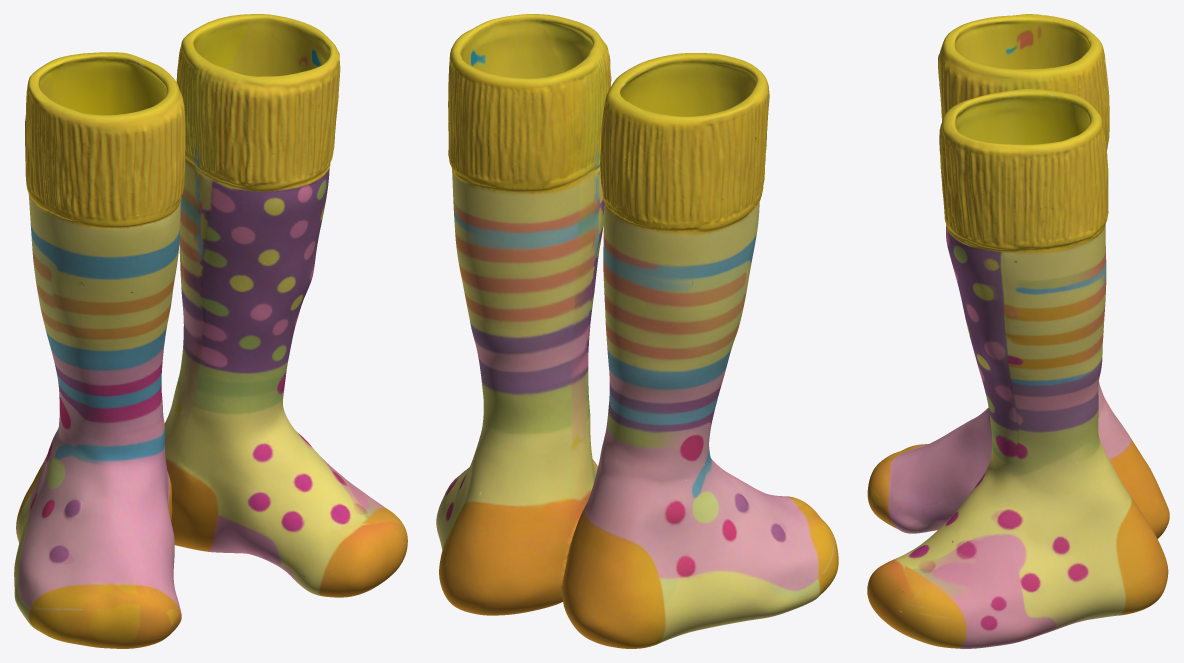
Rendered from socks.glb.
3 views of the same model, side by side, from view 1: azimuth 30°, elevation 25°; view 2: azimuth 150°, elevation 25°; view 3: azimuth 270°, elevation 25° (orthographic). The views are drawn at different scales.
Size of the model in its own units: 48703 by 65613 by 36504.
1 material, 1 textured.
